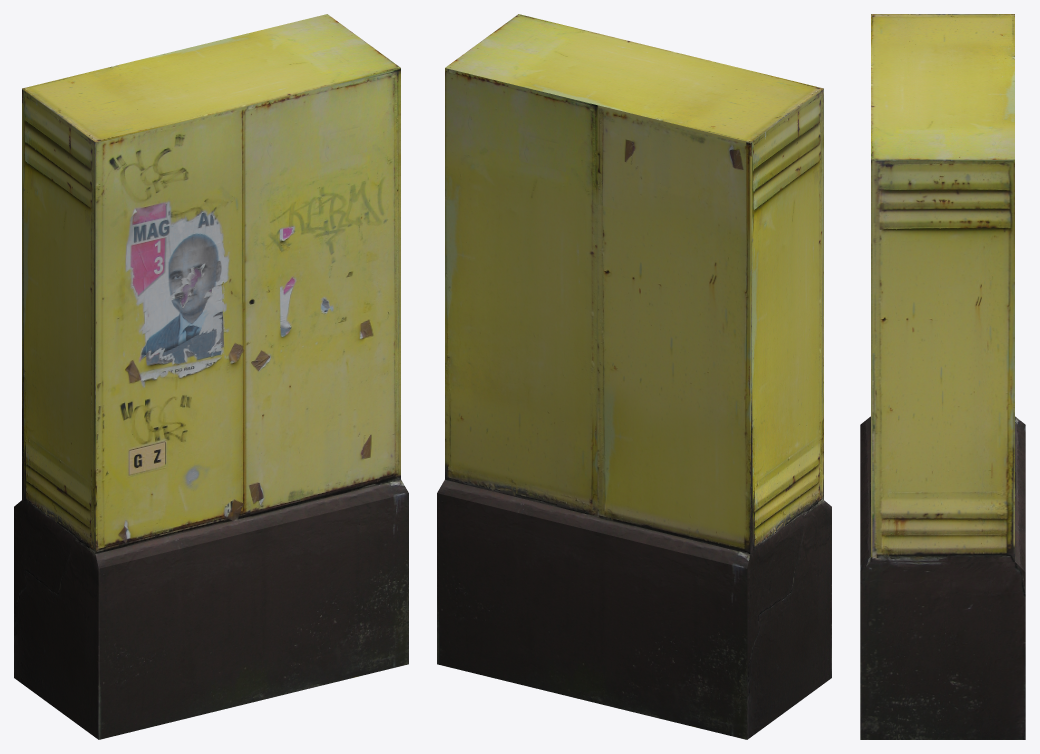
Rendered from fuse_box1.fbx.
The picture shows the model from 3 angles, left to right: view 1: azimuth 30°, elevation 25°; view 2: azimuth 150°, elevation 25°; view 3: azimuth 270°, elevation 25°; orthographic projection. The views are drawn at different scales.
Visible parts, largest first — view 1: fuse_box1; view 2: fuse_box1; view 3: fuse_box1.
Boxes of the visible parts, x1,y1,x2,y2 form: fuse_box1: (14, 14, 408, 739); fuse_box1: (437, 14, 831, 739); fuse_box1: (860, 14, 1025, 739).
Size of the model in its own units: 98.51 by 46.63 by 180.
